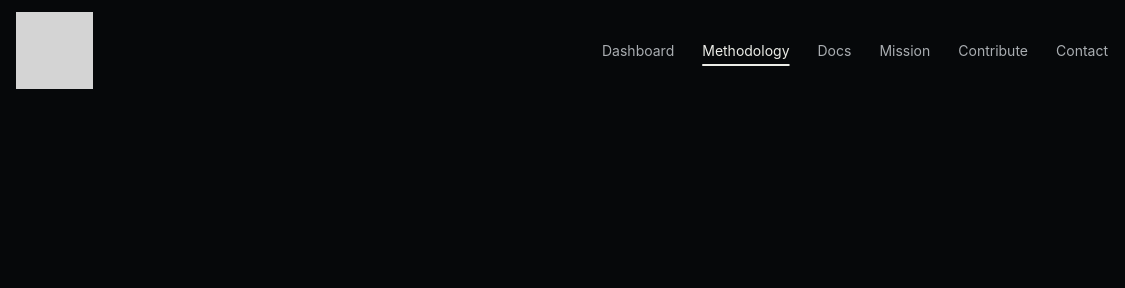
Scenario: header › has no theme toggle and no icons, and a Docs menu with the three guides
Click the button "Docs".
click(834, 50)  # box x1=806 y1=32 x2=863 y2=68
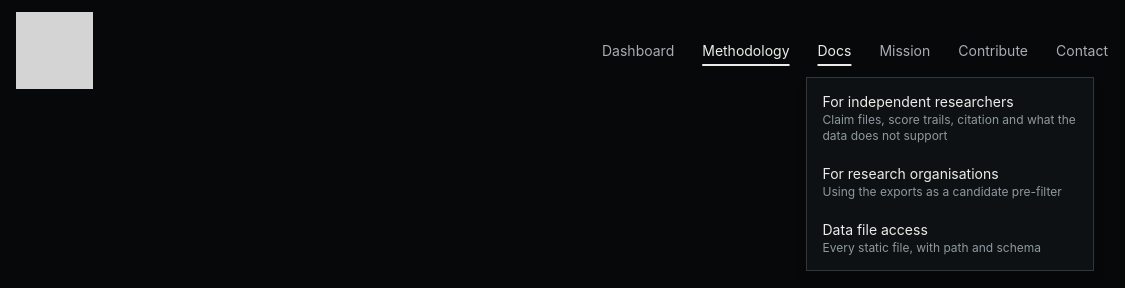
expect the button "Docs" is expanded: met, box x1=806 y1=32 x2=863 y2=68
